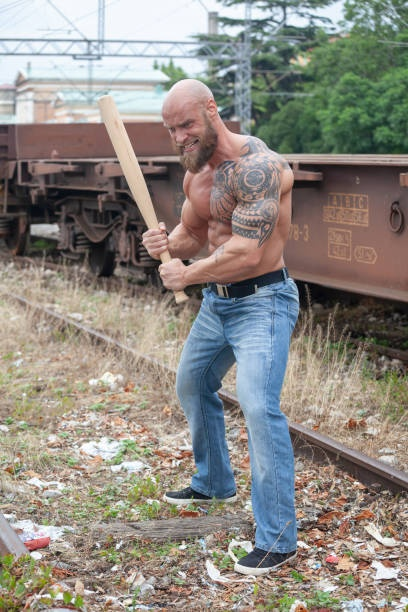bita: (100, 96, 189, 297)
